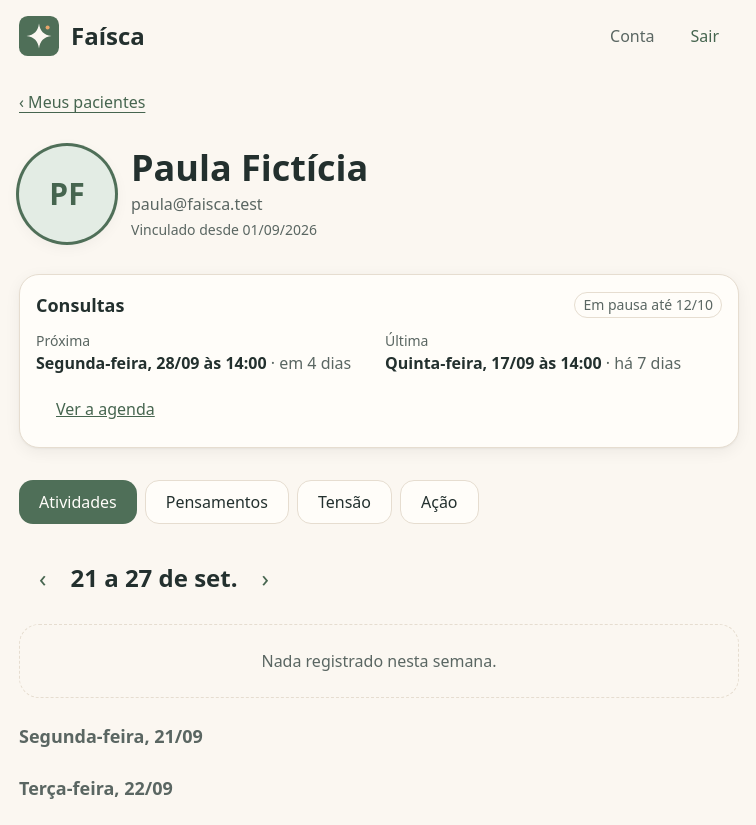
/pacientes/:id: agenda (DEC-045) › selo da pausa e a agenda com os motivos, só para ler
The width and height of the screenshot is (756, 825).
Expected: the text "Em pausa até 12/10" is shown, [574,292,722,318]
Click the button "Ver a agenda" at (105, 409), box [36,387,175,431]
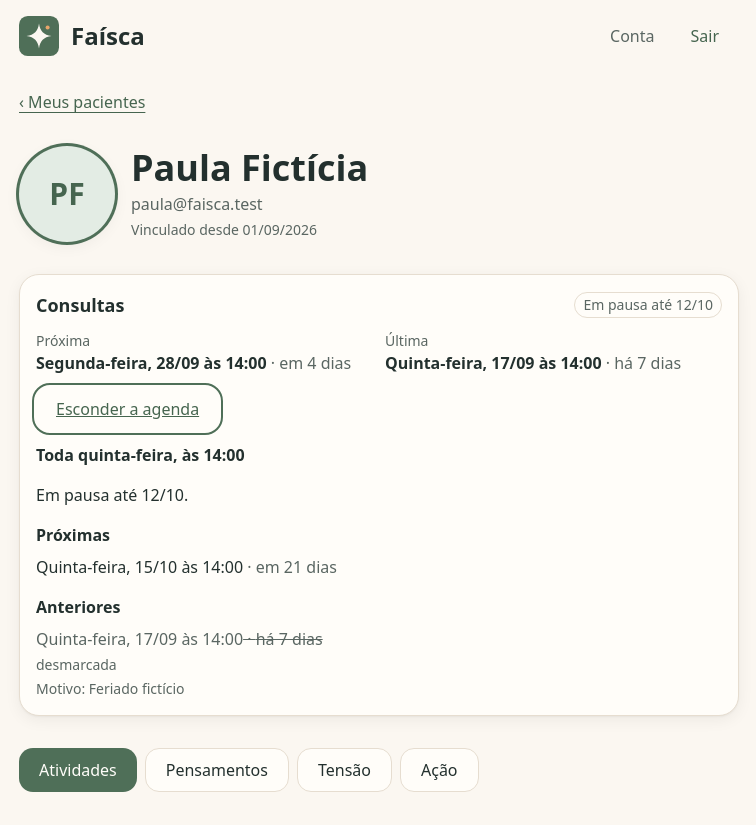
Result: the text "Toda quinta-feira, às 14:00" is shown at [36,444,245,466]
Result: the text "Motivo: Feriado fictício" is shown at [36,679,185,698]
